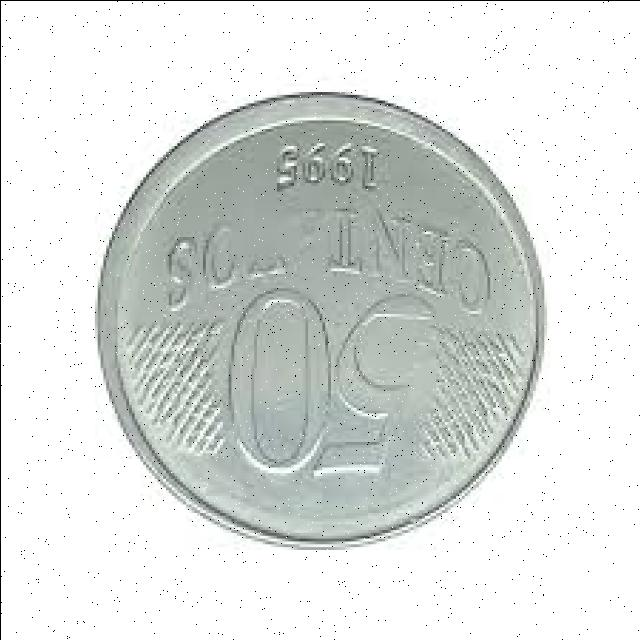50 cent: (103, 90, 548, 556)
